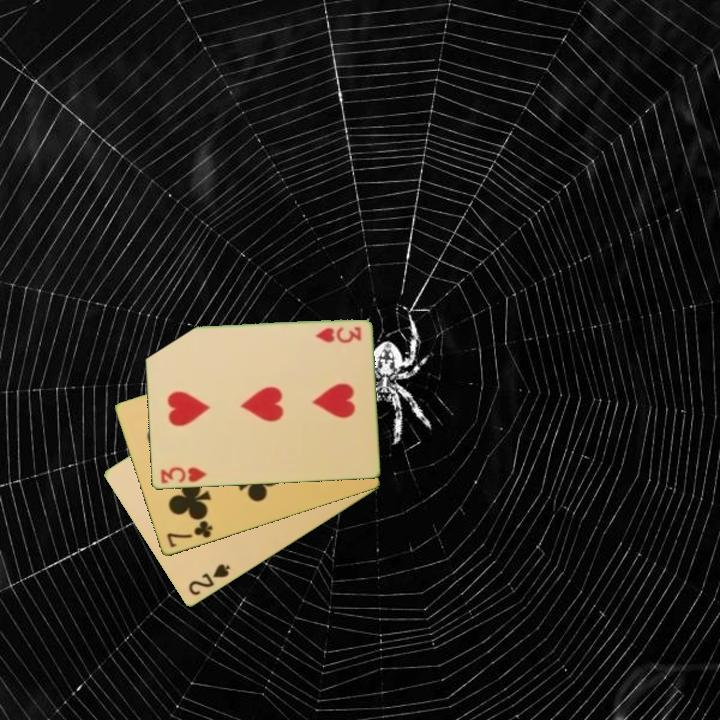2s: (185, 560, 233, 599)
3h: (157, 464, 209, 487), (311, 324, 364, 345)
7c: (163, 517, 215, 551)
